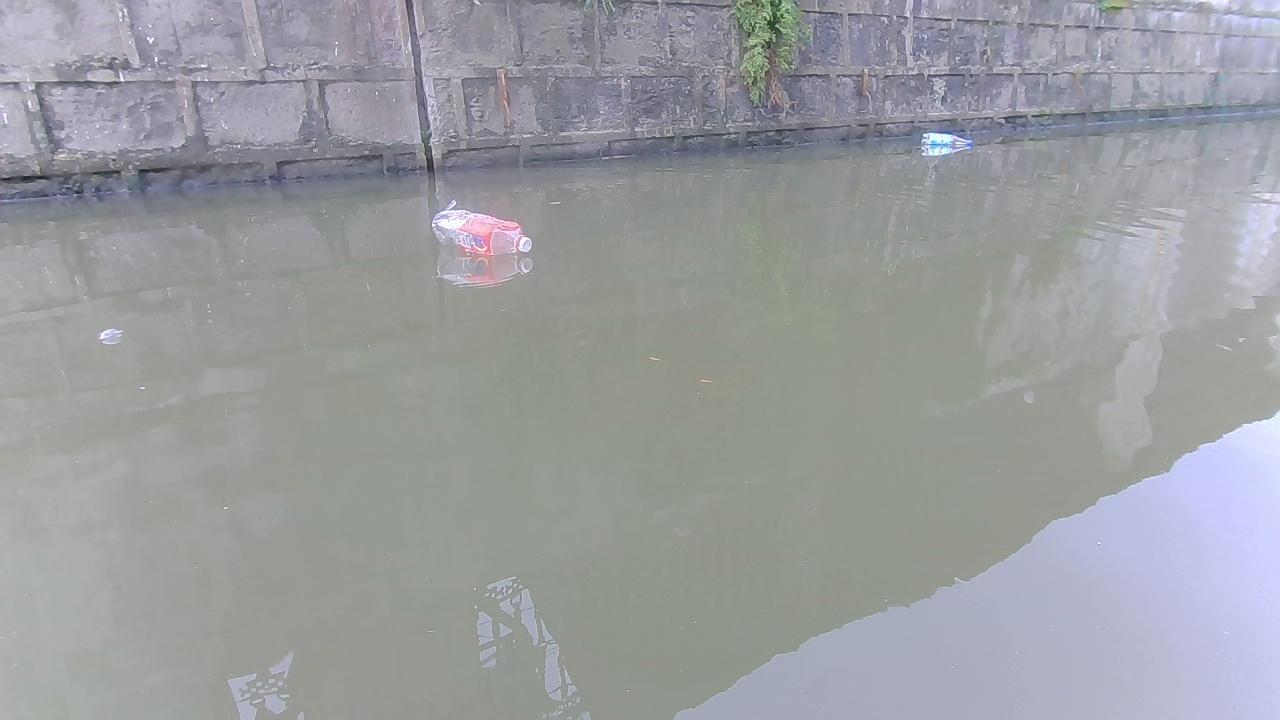bottle: (432, 207, 533, 254), (916, 127, 976, 151)
